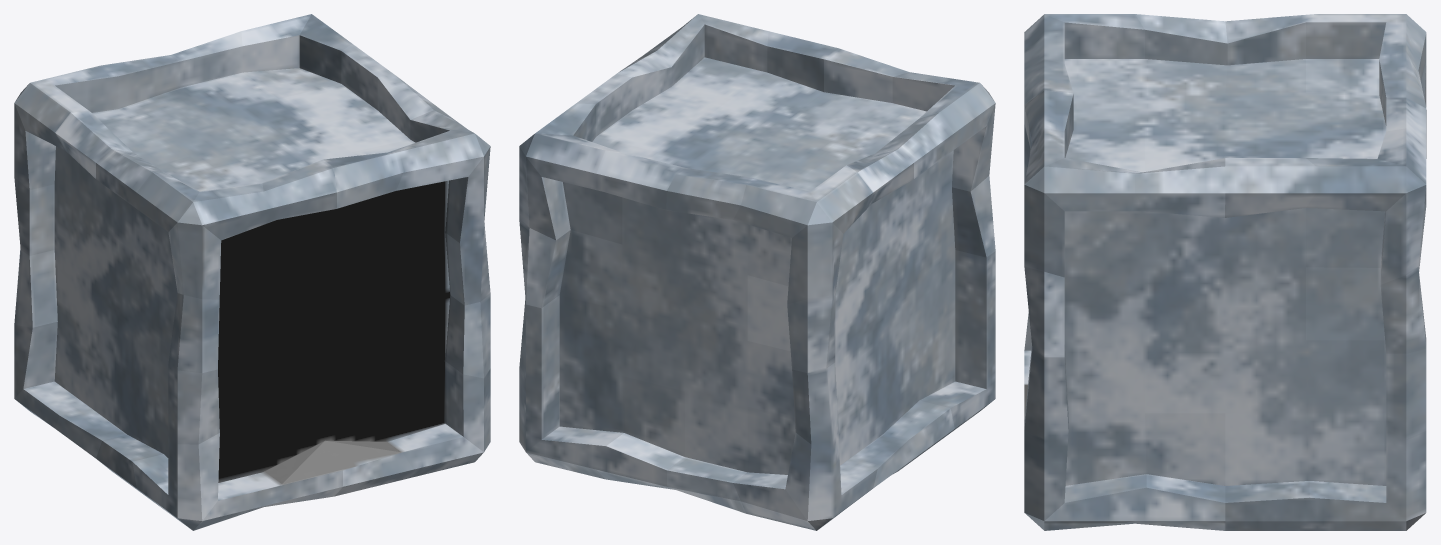
Rendered from Deep North Stone Drawer.fbx.
3 views of the same model, side by side, from view 1: azimuth 30°, elevation 25°; view 2: azimuth 150°, elevation 25°; view 3: azimuth 270°, elevation 25° (orthographic). The views are drawn at different scales.
Parts seen in each view (by area): view 1: Cube; view 2: Cube; view 3: Cube.
Part boxes in pixels (x1,y1,x2,y2): Cube: (14, 14, 490, 530); Cube: (519, 14, 995, 530); Cube: (1024, 14, 1426, 530).
Size of the model in its own units: 100 by 100 by 100.
1 material, 1 textured.
